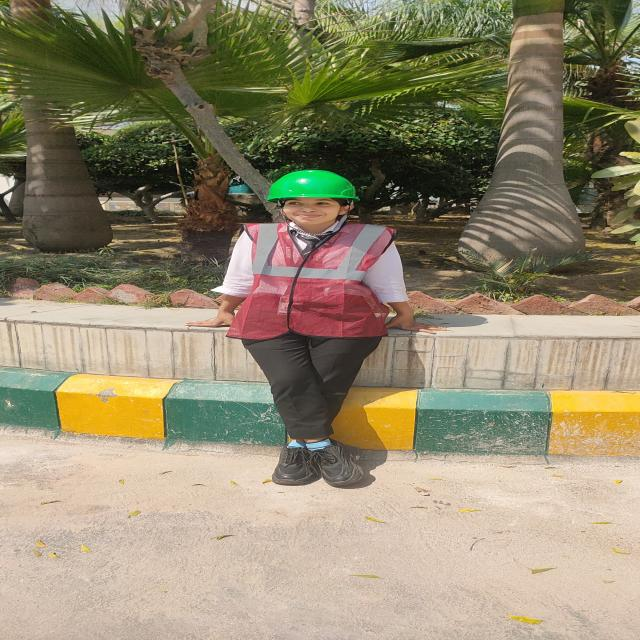safe: (188, 170, 446, 484)
